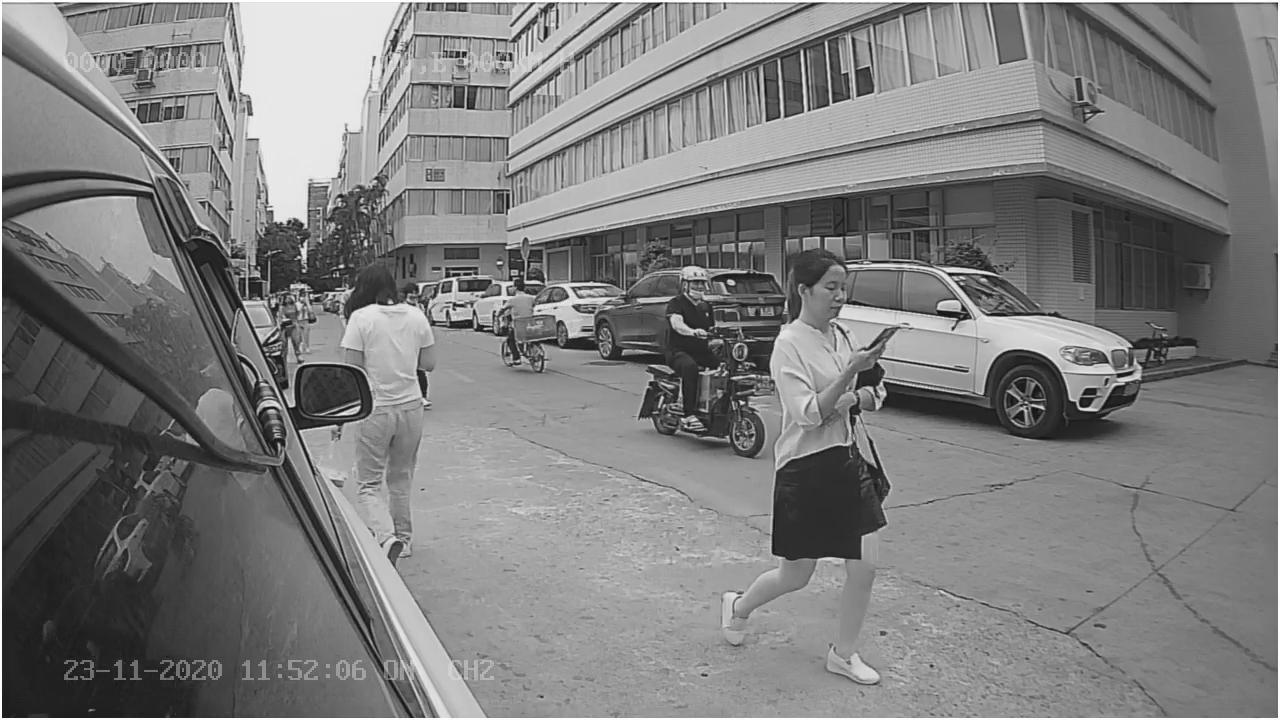person: (718, 247, 912, 683), (335, 265, 437, 367)
